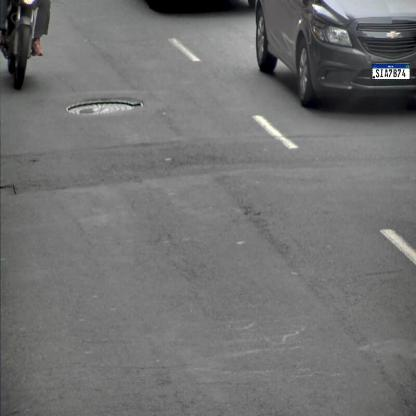PlacaM: (372, 64, 410, 80)
